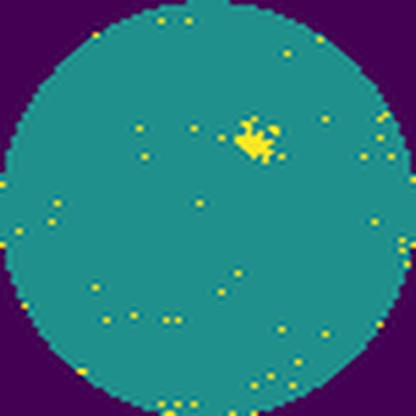Edge-Loc: (234, 115, 284, 163)
